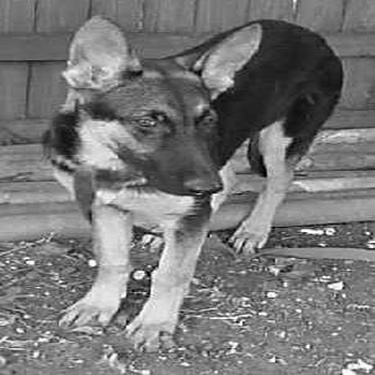dog: (40, 9, 348, 351)
